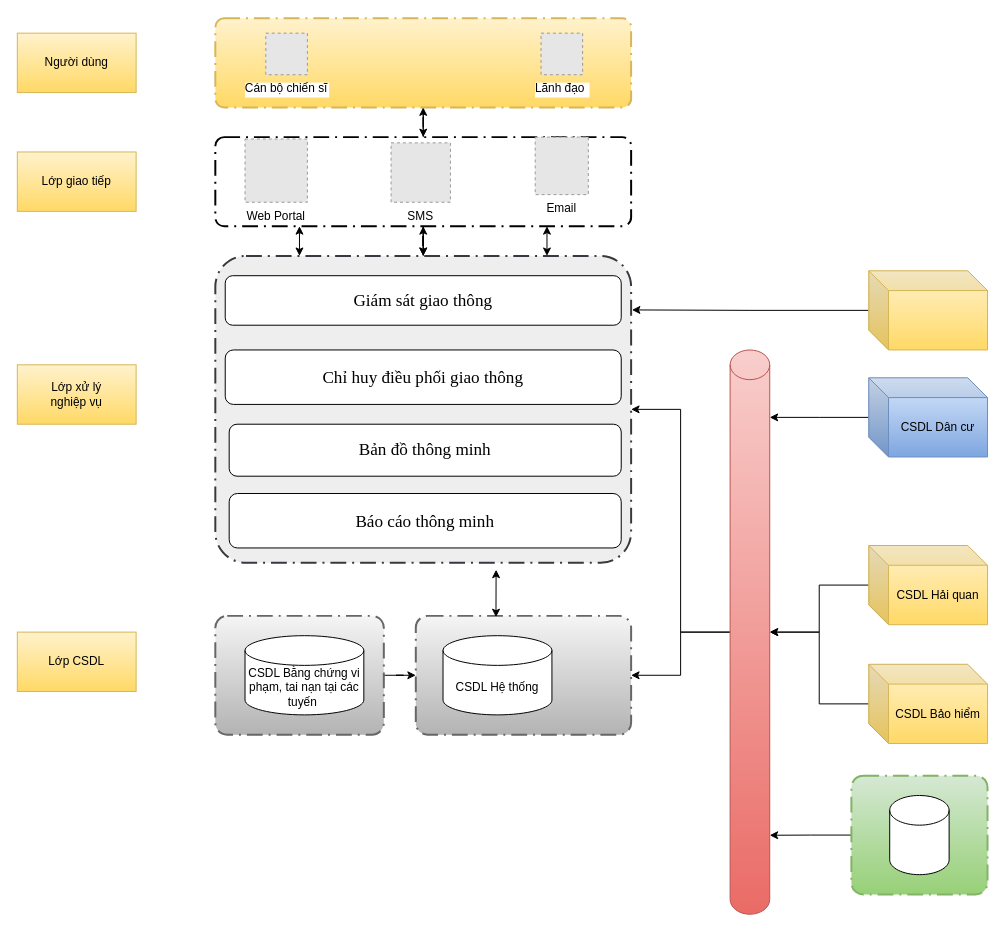
Some shapes in this 1006 by 932 pixel diagram are drawn without their labels. Grey dashed boxes stand in for pictures. The shapes that lost their labels are listed below. From the top down, each one's centre as x and y in pixels, then its label:
At point 928,310: "dữ liệu Streming từ các tuyến".
At point 749,631: "Trục liên thông kết nối (Ngoài ngành CA)".
At point 919,834: "CSDL từ TTĐH khác".
